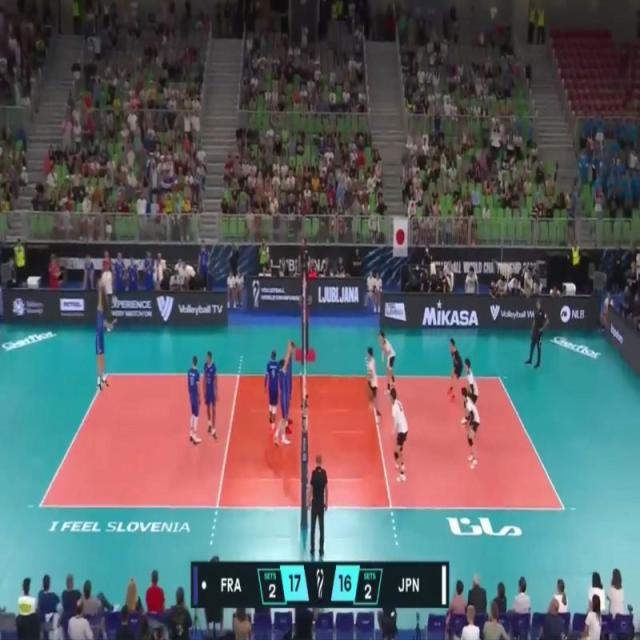volleyball: (98, 276, 104, 290)
